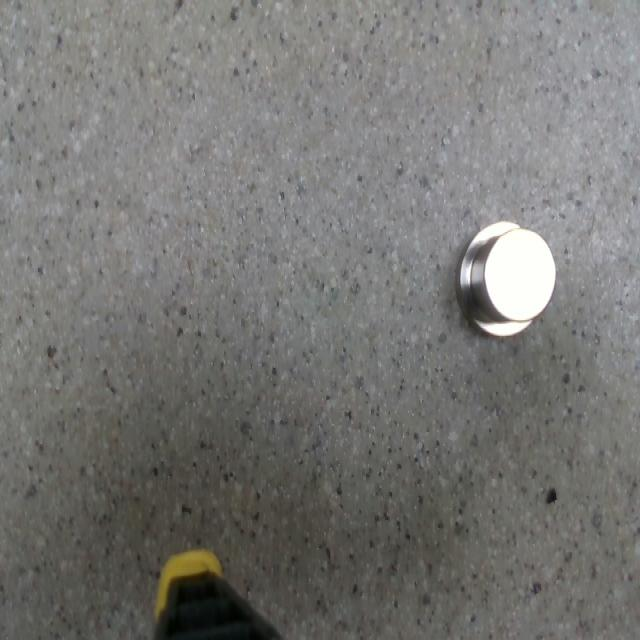sensor: (456, 223, 556, 338)
